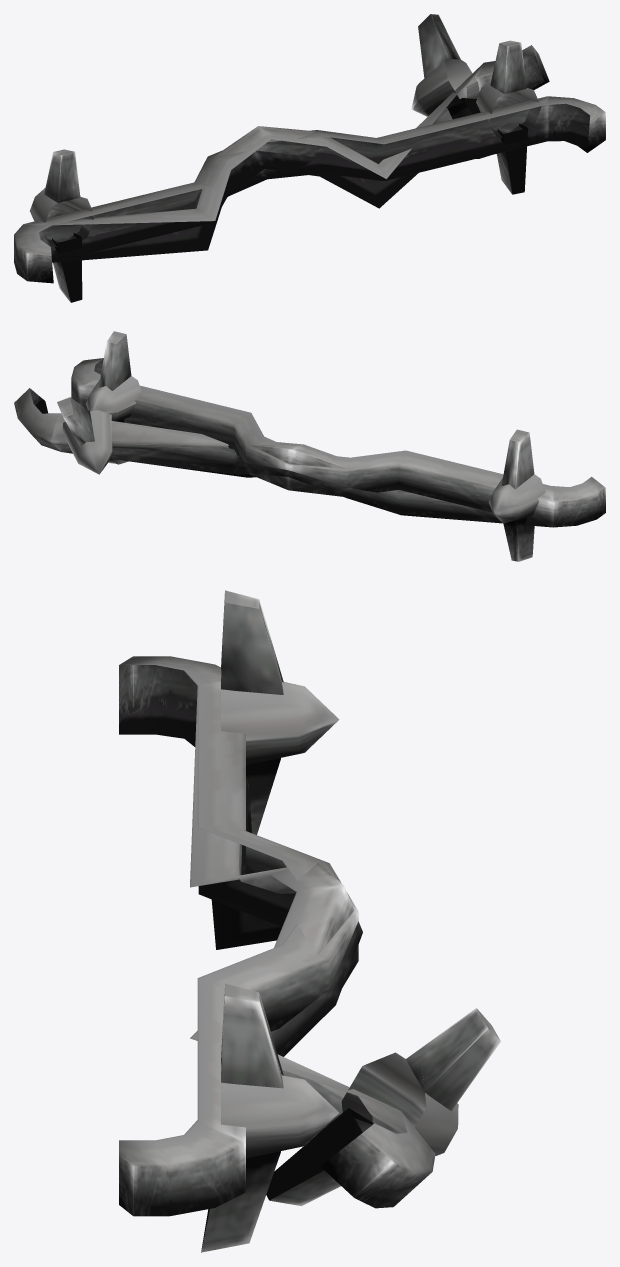
File: fbmp_lr_br2.glb
The picture shows the model from 3 angles, top to bottom: view 1: azimuth 30°, elevation 25°; view 2: azimuth 150°, elevation 25°; view 3: azimuth 270°, elevation 25°; orthographic projection. The views are drawn at different scales.
Visible parts, largest first — view 1: fbmp_lr_br2, fbmp_lr_br2_dam; view 2: fbmp_lr_br2, fbmp_lr_br2_dam; view 3: fbmp_lr_br2, fbmp_lr_br2_dam.
Boxes of the visible parts, bbox=[...] form: fbmp_lr_br2: bbox=[14, 40, 605, 302]; fbmp_lr_br2_dam: bbox=[39, 14, 549, 262]; fbmp_lr_br2: bbox=[71, 331, 605, 561]; fbmp_lr_br2_dam: bbox=[14, 388, 551, 527]; fbmp_lr_br2: bbox=[119, 590, 358, 1252]; fbmp_lr_br2_dam: bbox=[190, 689, 500, 1208].
Size of the model in its own units: 2.31 by 0.5428 by 0.7241.
2 materials, 2 textured.
